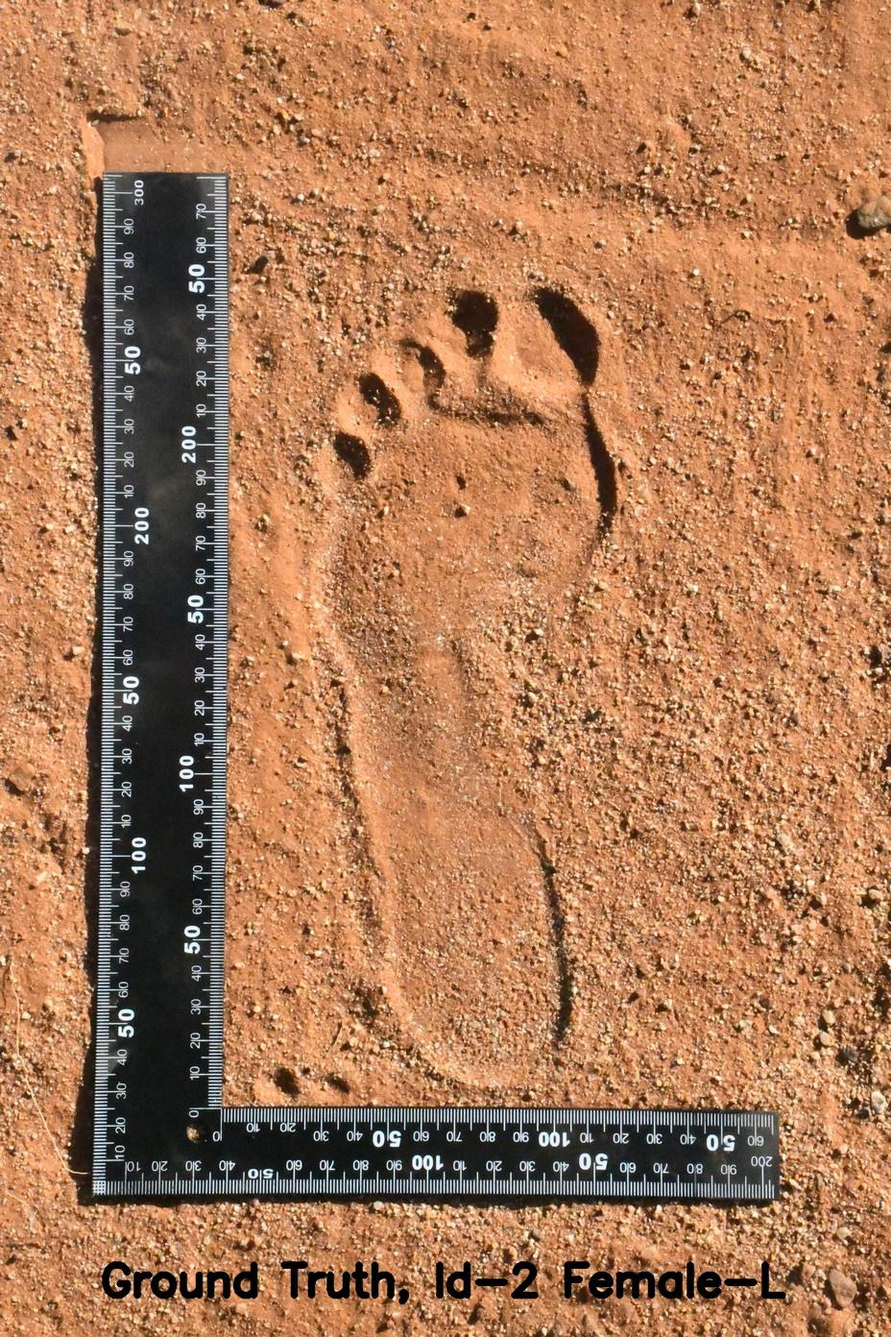human_footprint: (282, 228, 653, 1088)
